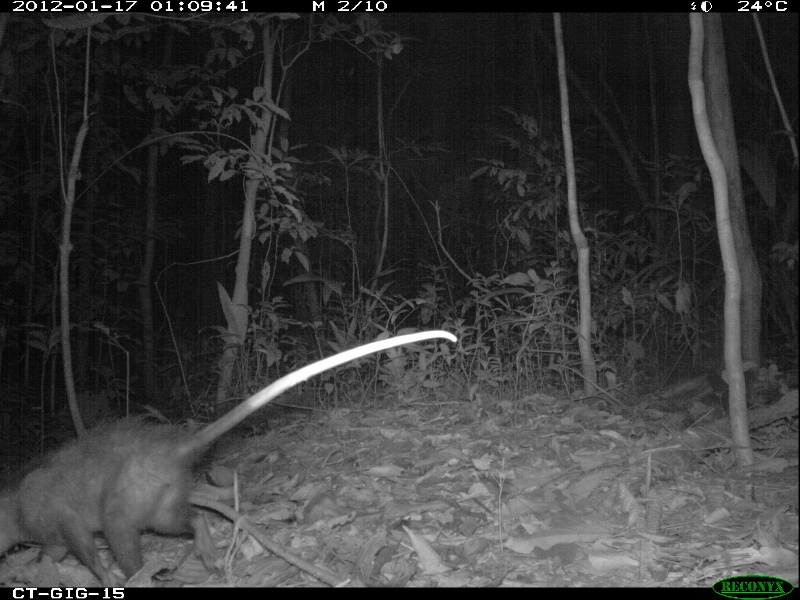opossum: (5, 325, 465, 580)
